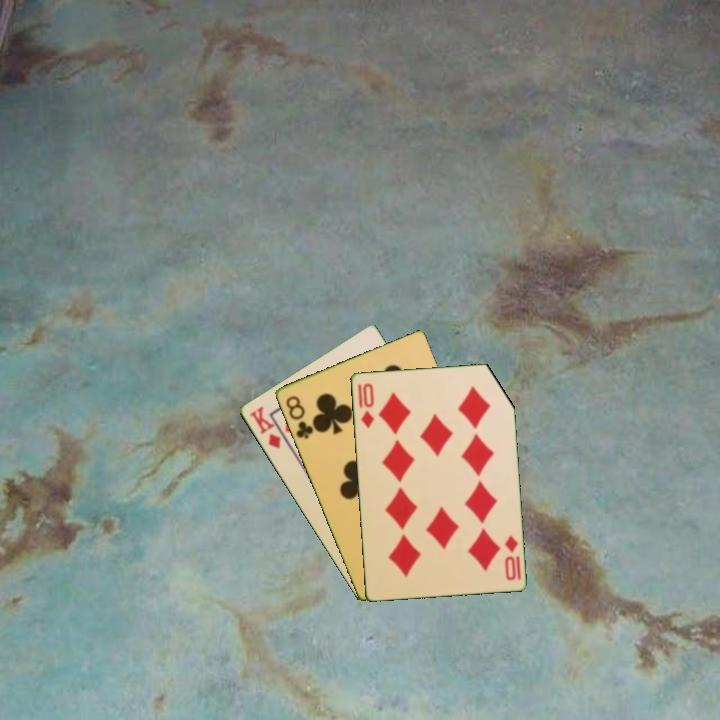10d: (357, 379, 377, 431), (501, 532, 521, 583)
8c: (282, 392, 316, 442)
Kd: (245, 403, 283, 452)
